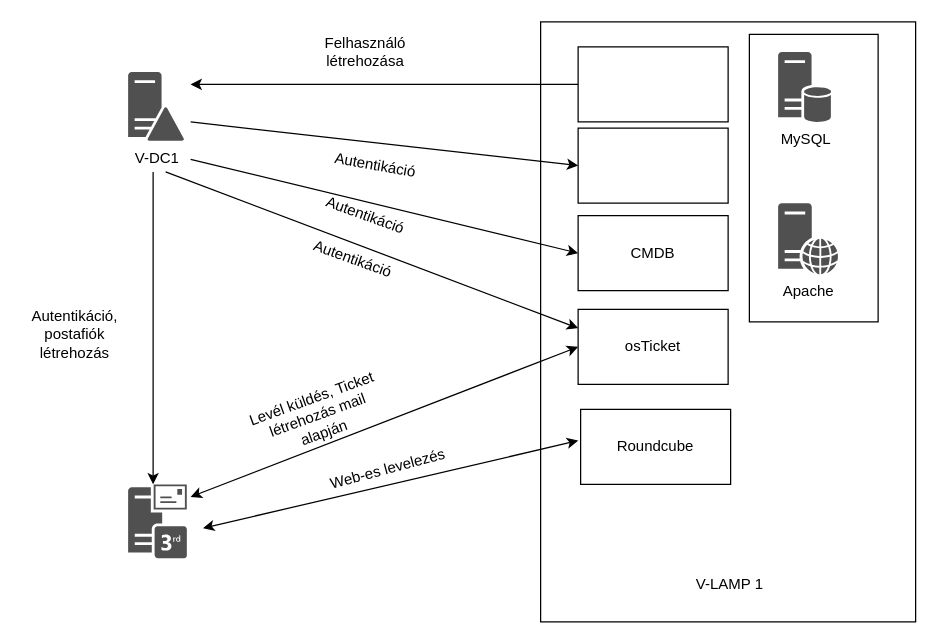
This 938x644 diagram has some shape labels left out. Here are the shapes that lost their labels. From the top down, the box of each, then its label:
(577, 46, 728, 122): Dolibarr
(577, 127, 728, 203): WordPress
(128, 484, 186, 558): V-MAIL1
